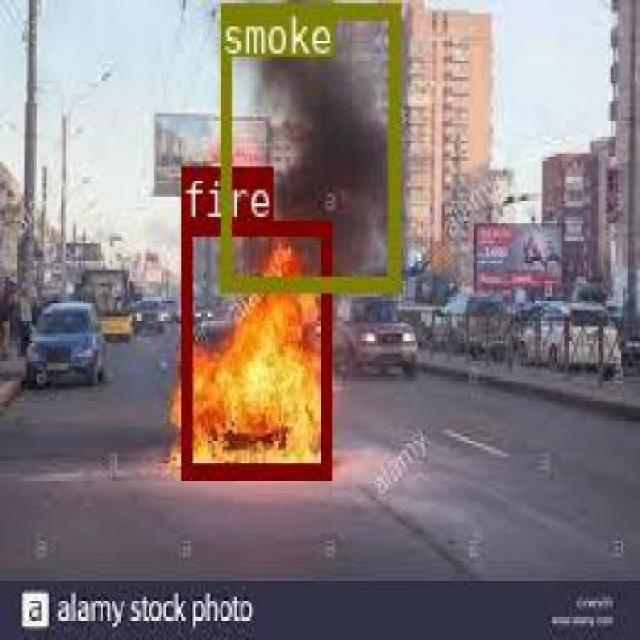Fire: (180, 218, 328, 477)
Smoke: (218, 2, 398, 288)
